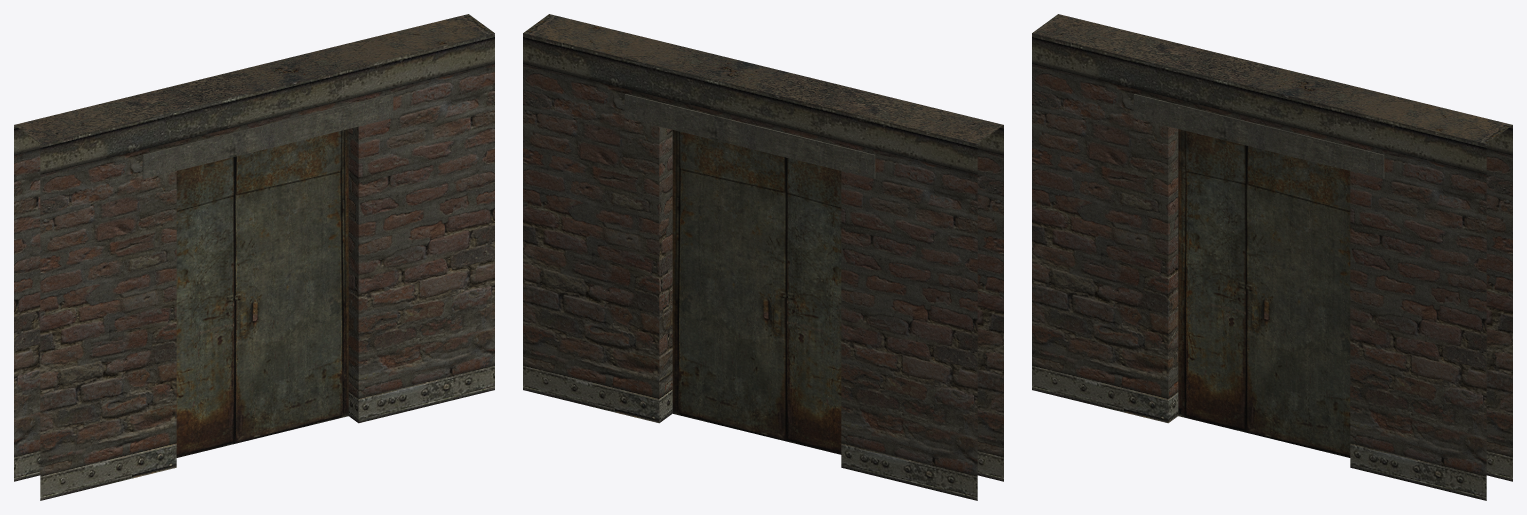
The model's file is doorway_hr_1_wide.obj.
The picture shows the model from 3 angles, left to right: view 1: azimuth 30°, elevation 25°; view 2: azimuth 150°, elevation 25°; view 3: azimuth 330°, elevation 25°; orthographic projection.
Visible parts, largest first — view 1: doorway_hr_1_wide, door_hm_1_piece_2, door_hm_1_piece_1; view 2: doorway_hr_1_wide, door_hm_1_piece_2, door_hm_1_piece_1; view 3: doorway_hr_1_wide, door_hm_1_piece_2, door_hm_1_piece_1.
Part boxes in pixels (bbox=[...]): doorway_hr_1_wide: bbox=[14, 14, 494, 500]; door_hm_1_piece_2: bbox=[235, 129, 348, 443]; door_hm_1_piece_1: bbox=[176, 157, 234, 457]; doorway_hr_1_wide: bbox=[523, 14, 1003, 500]; door_hm_1_piece_2: bbox=[672, 130, 786, 441]; door_hm_1_piece_1: bbox=[786, 157, 841, 454]; doorway_hr_1_wide: bbox=[1032, 14, 1512, 500]; door_hm_1_piece_2: bbox=[1246, 145, 1350, 457]; door_hm_1_piece_1: bbox=[1178, 129, 1246, 432].
Bounding box in the file's own units: 4 × 3 × 0.42.
